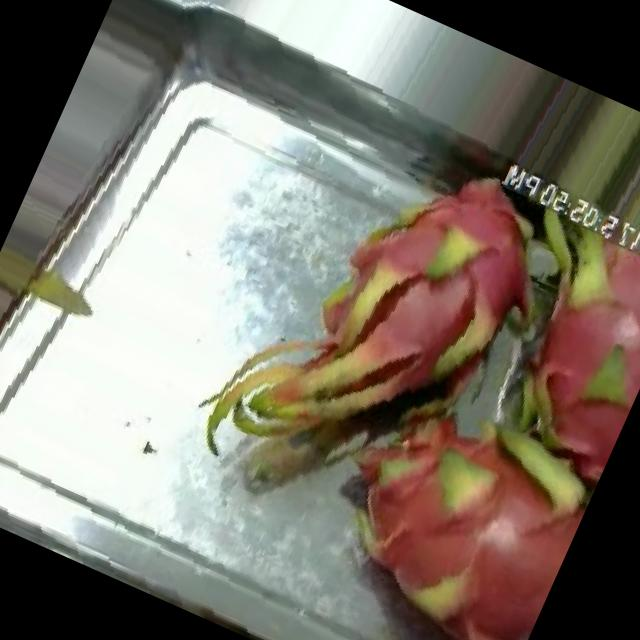Fruit: (85, 0, 212, 99)
